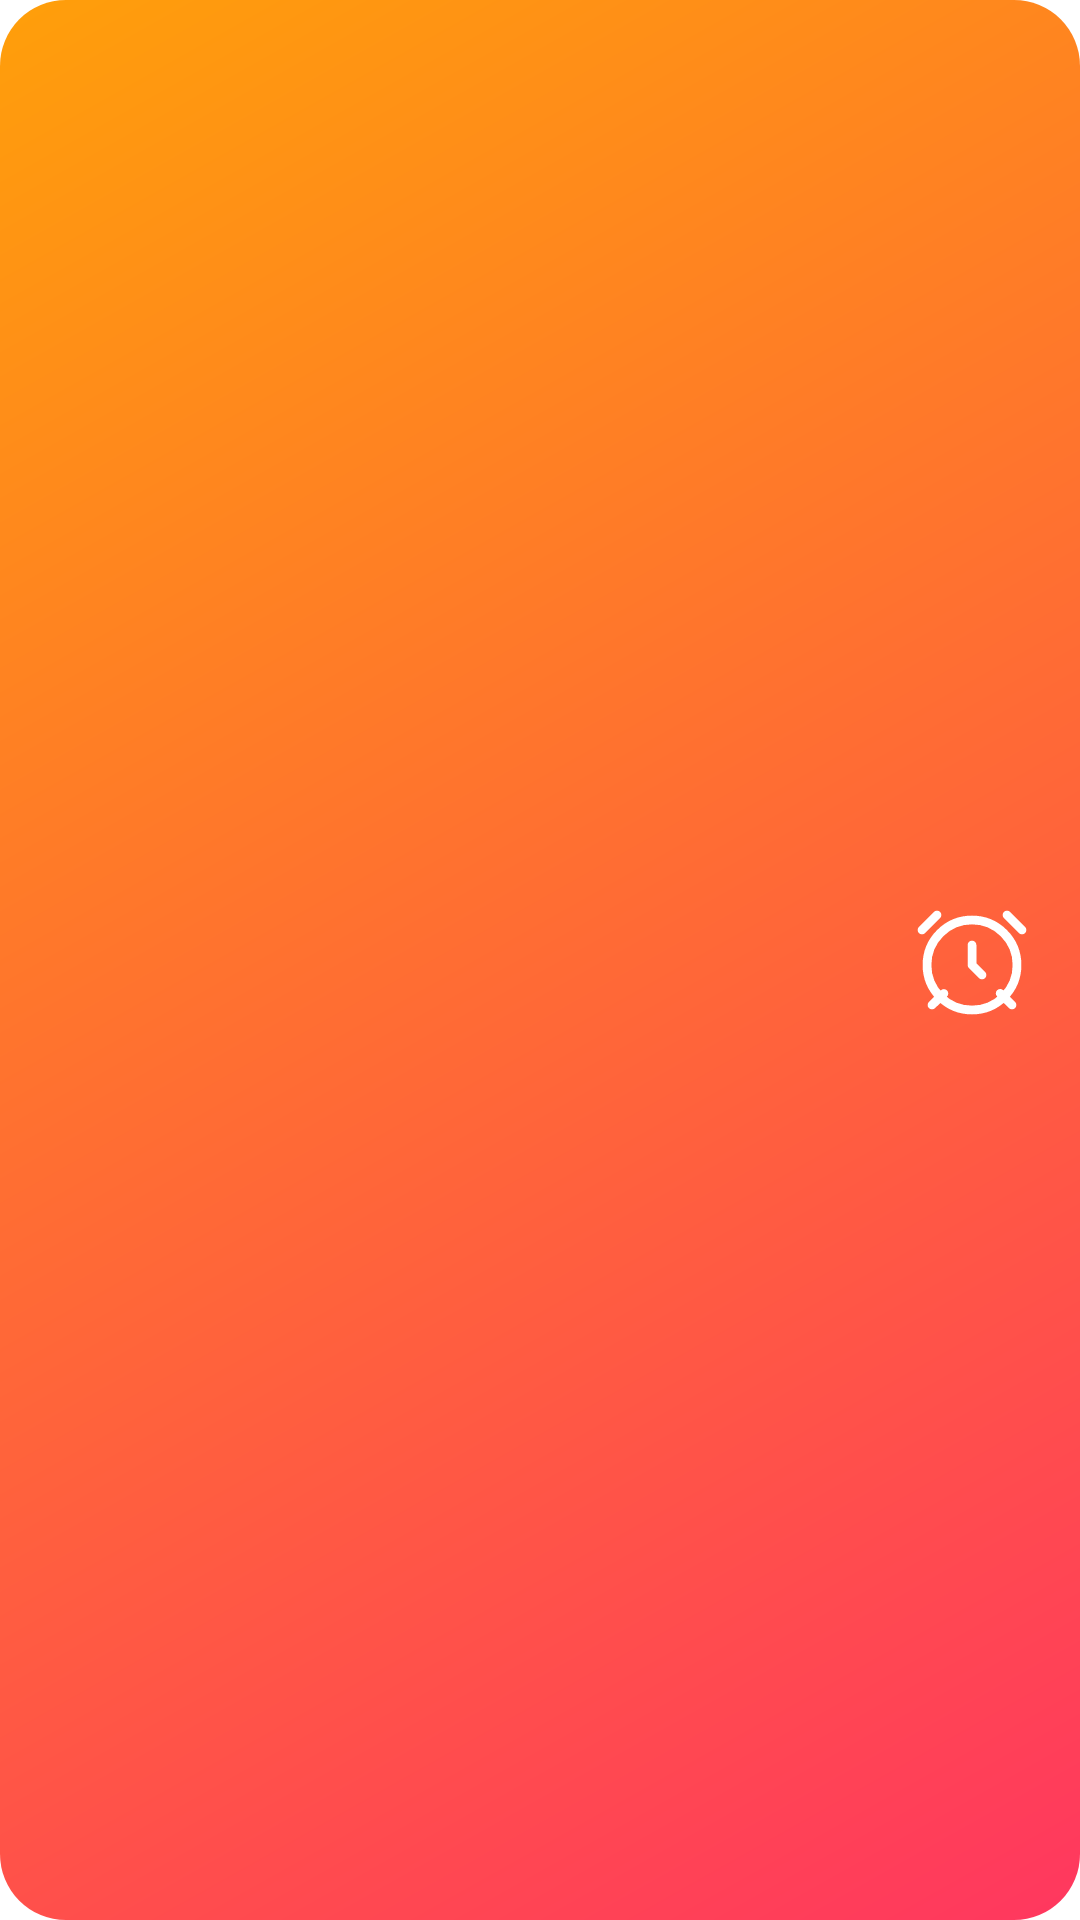

Where icons sit on this 1080px x 1920px app screen, as Rect(x1, y1, x2, y2):
alarm: Rect(917, 910, 1027, 1015)
